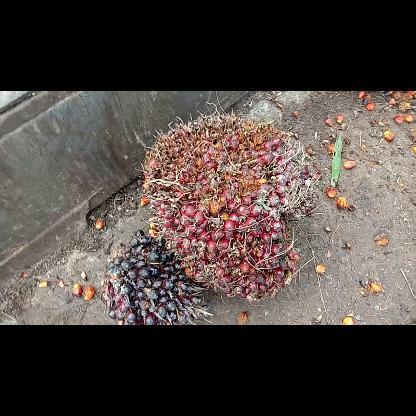TBS abnormal: (99, 226, 215, 324)
TBS masak: (133, 110, 319, 304)
